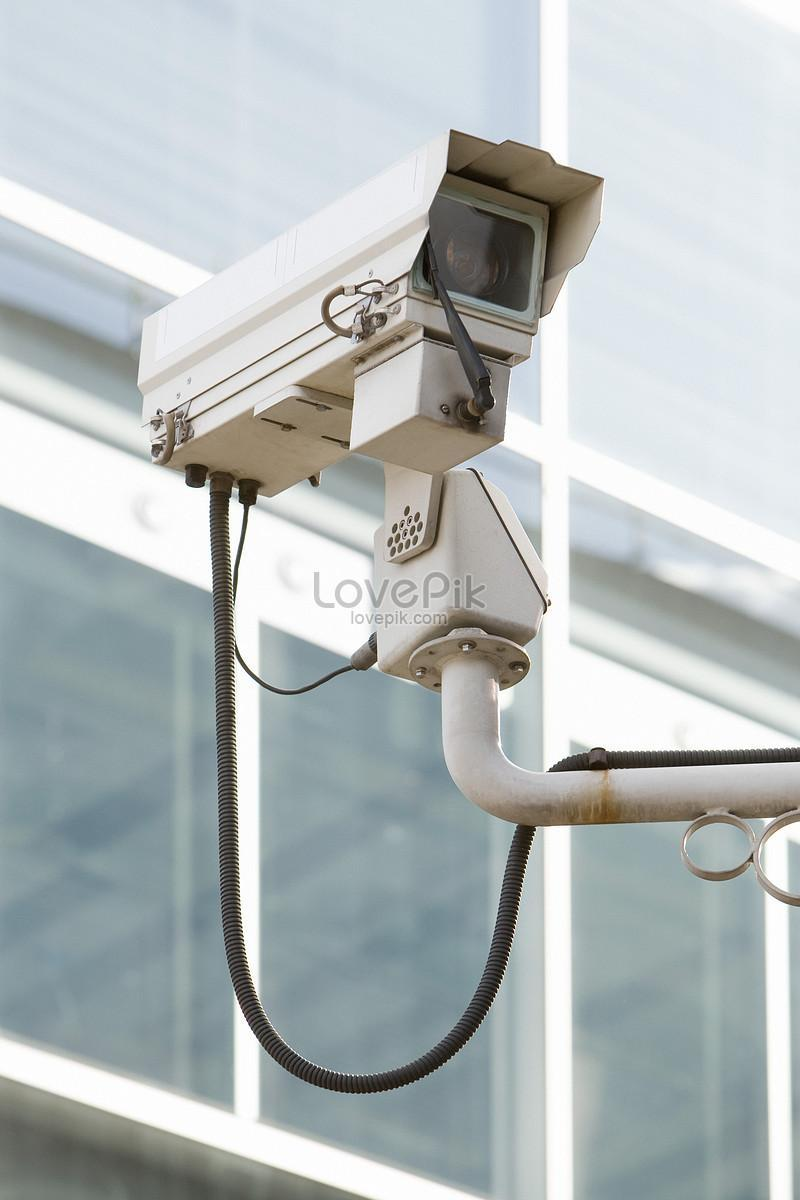camera: (33, 43, 643, 623)
